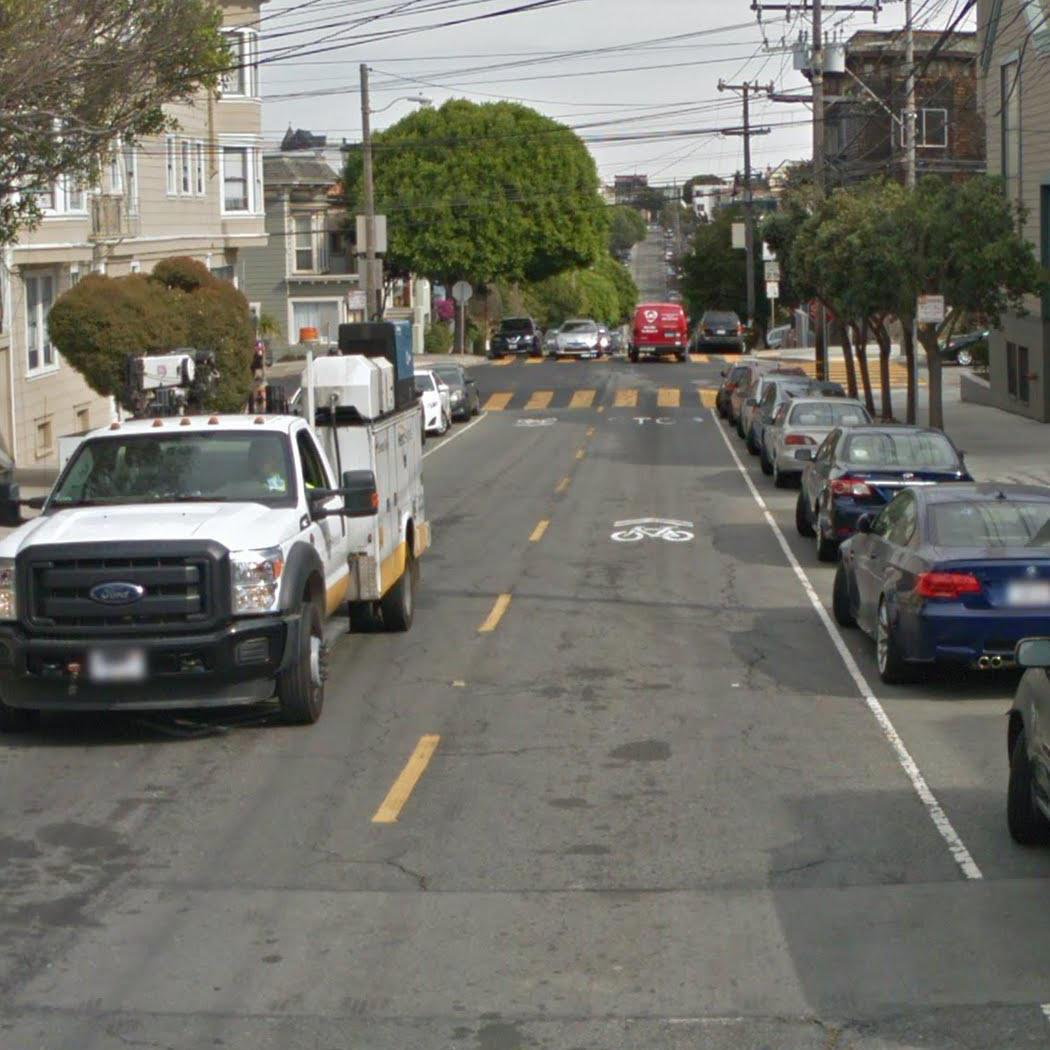No Parking: (911, 291, 950, 328)
